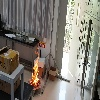fire: (30, 47, 40, 87)
